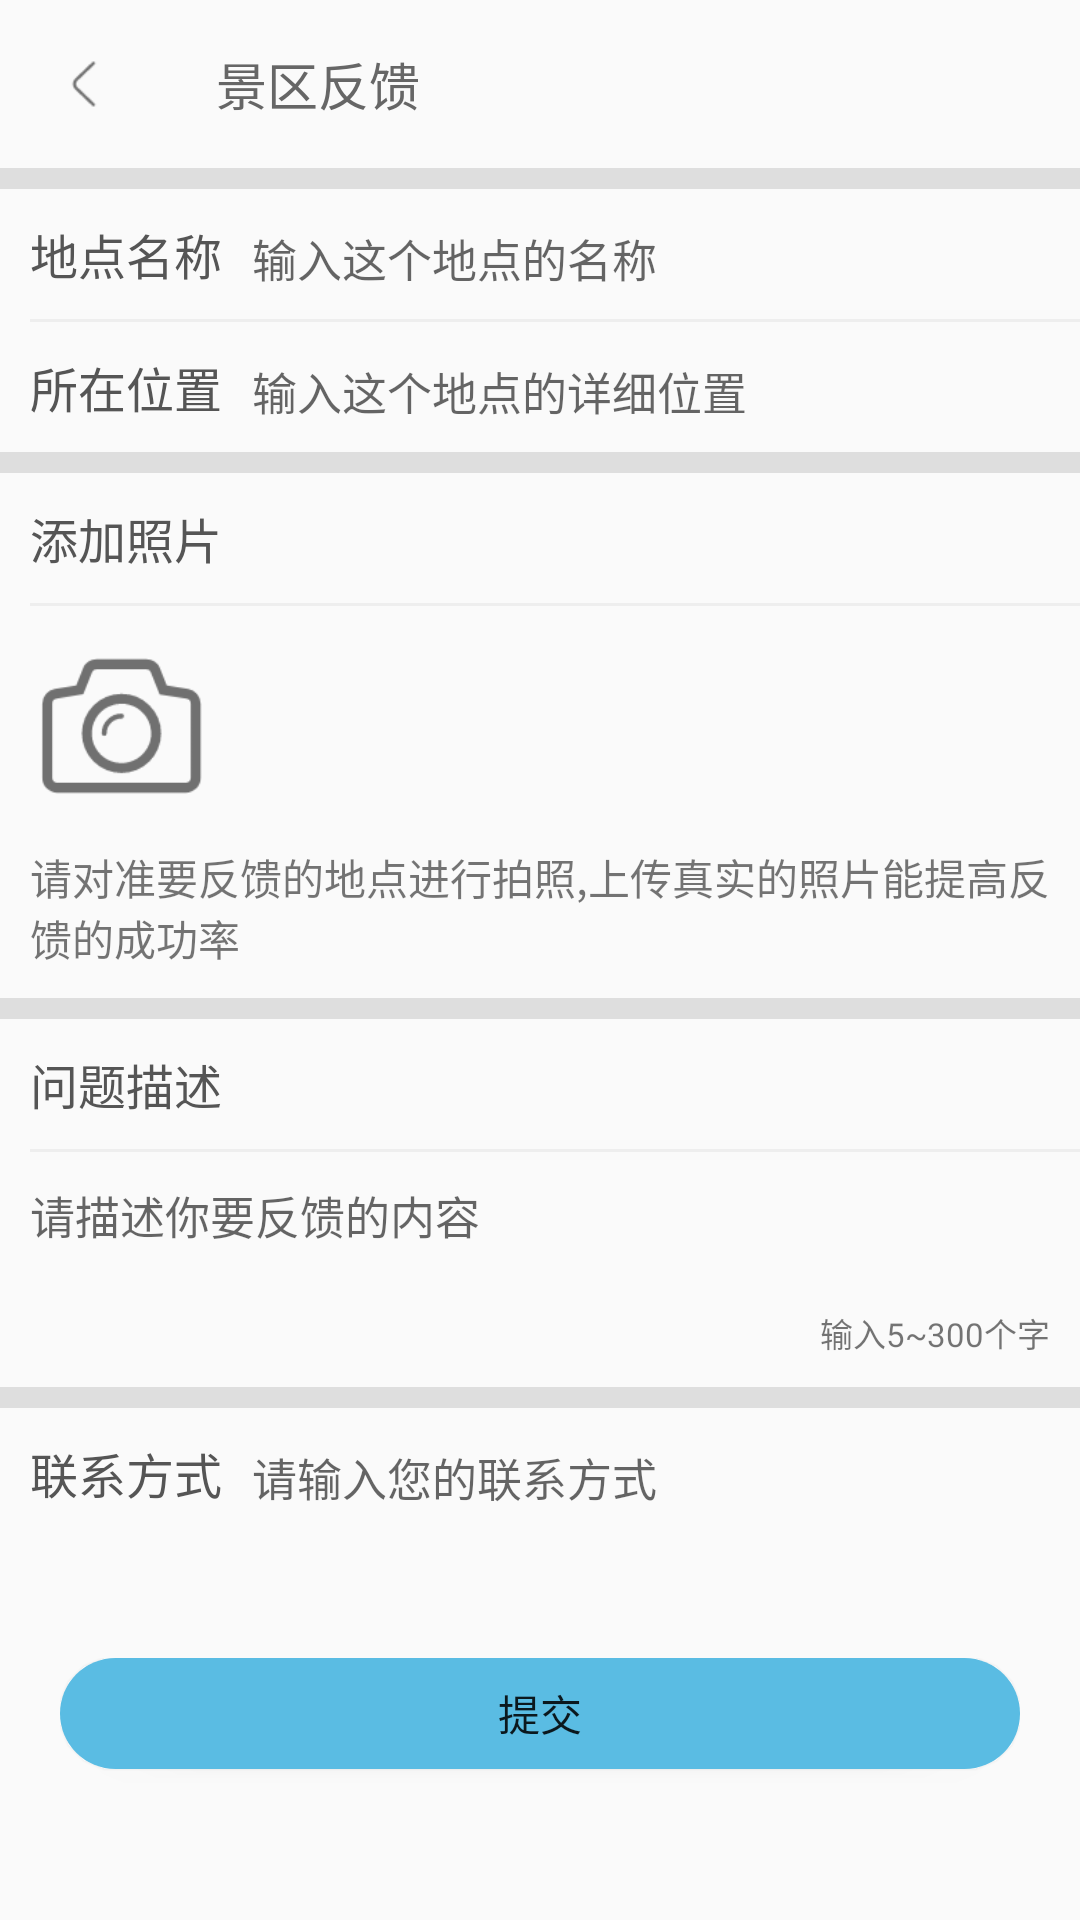

Screen size 1080×1920. Icon name, then its box in pixels as {"x1": x1, "y1": y1, "x2": x2, "y2": y2}:
camera: {"x1": 42, "y1": 658, "x2": 201, "y2": 794}
